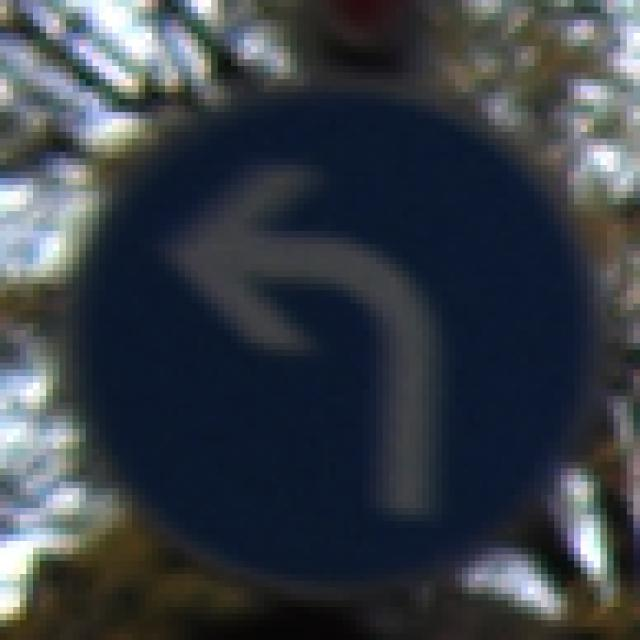compulsary turn left ahead: (74, 88, 594, 585)
